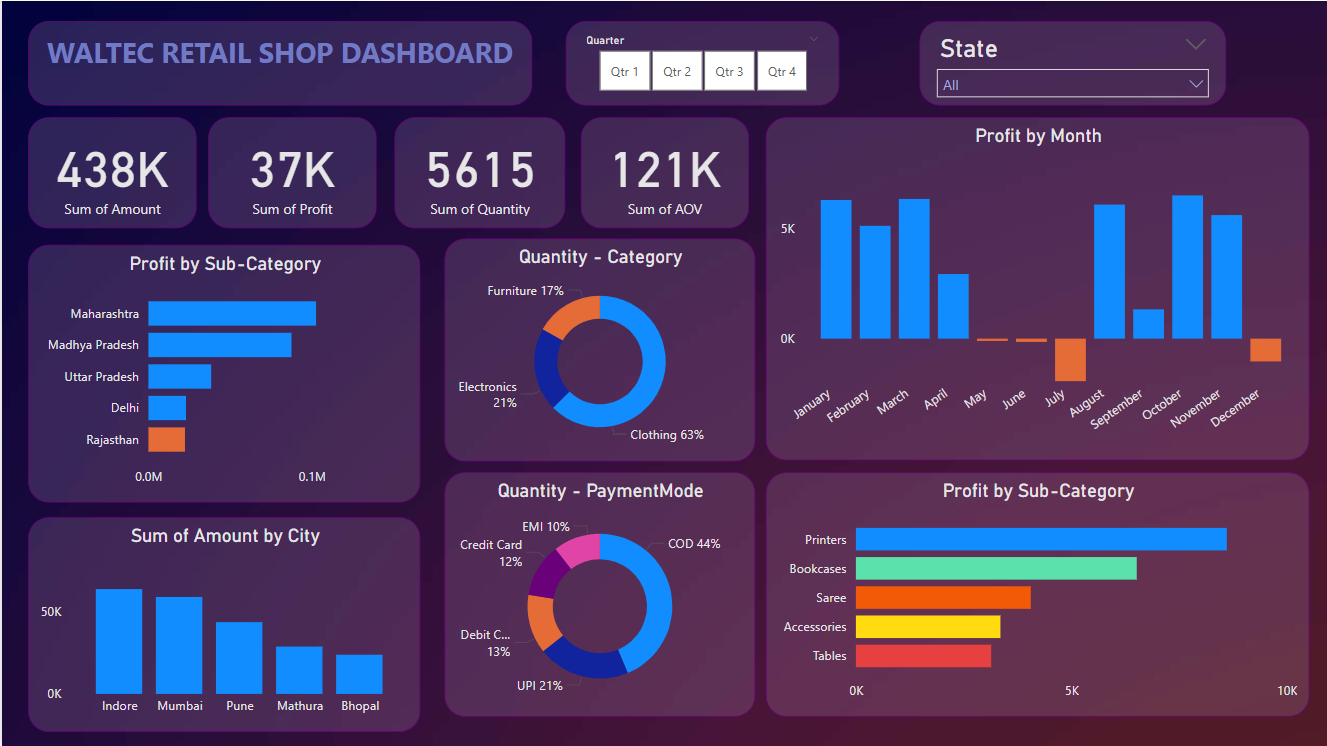

The dashboard page shown, as its layout file describes it:
{"tool":"powerbi","page":{"name":"Page 1","canvas":[1280,720],"ordinal":0},"visuals":[{"type":"textbox","box":[25,18.8,486.2,81.2],"z":0},{"type":"columnChart","title":"Profit by Month","fields":{"Category":["Orders (1).Order Date.Variation.Date Hierarchy.Month"],"Y":["Sum(Details (1).Profit)"]},"box":[737.5,112.5,525,331.2],"z":1},{"type":"barChart","title":"Profit by Sub-Category","fields":{"Category":["Details (1).Sub-Category"],"Y":["Sum(Details (1).Profit)"]},"box":[737.5,455,525,236.2],"z":2},{"type":"donutChart","title":"Quantity - Category","fields":{"Category":["Details (1).Category"],"Y":["Sum(Details (1).Quantity)"]},"box":[427.5,228.8,300,215],"z":3},{"type":"donutChart","title":"Quantity - PaymentMode","fields":{"Y":["Sum(Details (1).Quantity)"],"Category":["Details (1).PaymentMode"]},"box":[427.5,455,300,236.2],"z":4},{"type":"card","fields":{"Values":["Sum(Details (1).Amount)"]},"box":[25,112.5,162.5,107.5],"z":5},{"type":"card","fields":{"Values":["Sum(Details (1).Profit)"]},"box":[198.8,112.5,162.5,107.5],"z":6},{"type":"card","fields":{"Values":["Sum(Details (1).Quantity)"]},"box":[378.8,112.5,165,107.5],"z":7},{"type":"card","fields":{"Values":["Sum(Details (1).Avg order value)"]},"box":[558.8,112.5,162.5,107.5],"z":8},{"type":"barChart","title":"Profit by Sub-Category","fields":{"Category":["Orders (1).State"],"Y":["Sum(Details (1).Amount)"]},"box":[25,235,378.8,248.8],"z":9},{"type":"columnChart","fields":{"Category":["Orders (1).City"],"Y":["Sum(Details (1).Amount)"]},"box":[25,498.8,378.8,207.5],"z":10},{"type":"slicer","fields":{"Values":["Orders (1).Order Date.Variation.Date Hierarchy.Quarter"]},"box":[543.8,18.8,263.8,81.2],"z":11},{"type":"slicer","fields":{"Values":["Orders (1).State"]},"box":[885,18.8,296.2,81.2],"z":12}]}

Visuals, with their boxes in screenshot pixels (x1, y1, x2, y2), scaled from the page's 1280x720 canvas onto the 1327x746 screenshot:
textbox: crop(26, 19, 530, 104)
"Profit by Month" columnChart: crop(765, 117, 1309, 460)
"Profit by Sub-Category" barChart: crop(765, 471, 1309, 716)
"Quantity - Category" donutChart: crop(443, 237, 754, 460)
"Quantity - PaymentMode" donutChart: crop(443, 471, 754, 716)
card - Sum(Details (1).Amount): crop(26, 117, 194, 228)
card - Sum(Details (1).Profit): crop(206, 117, 375, 228)
card - Sum(Details (1).Quantity): crop(393, 117, 564, 228)
card - Sum(Details (1).Avg order value): crop(579, 117, 748, 228)
"Profit by Sub-Category" barChart: crop(26, 243, 419, 501)
columnChart - Orders (1).City x Sum(Details (1).Amount): crop(26, 517, 419, 732)
slicer - Orders (1).Order Date.Variation.Date Hierarchy.Quarter: crop(564, 19, 837, 104)
slicer - Orders (1).State: crop(917, 19, 1225, 104)
